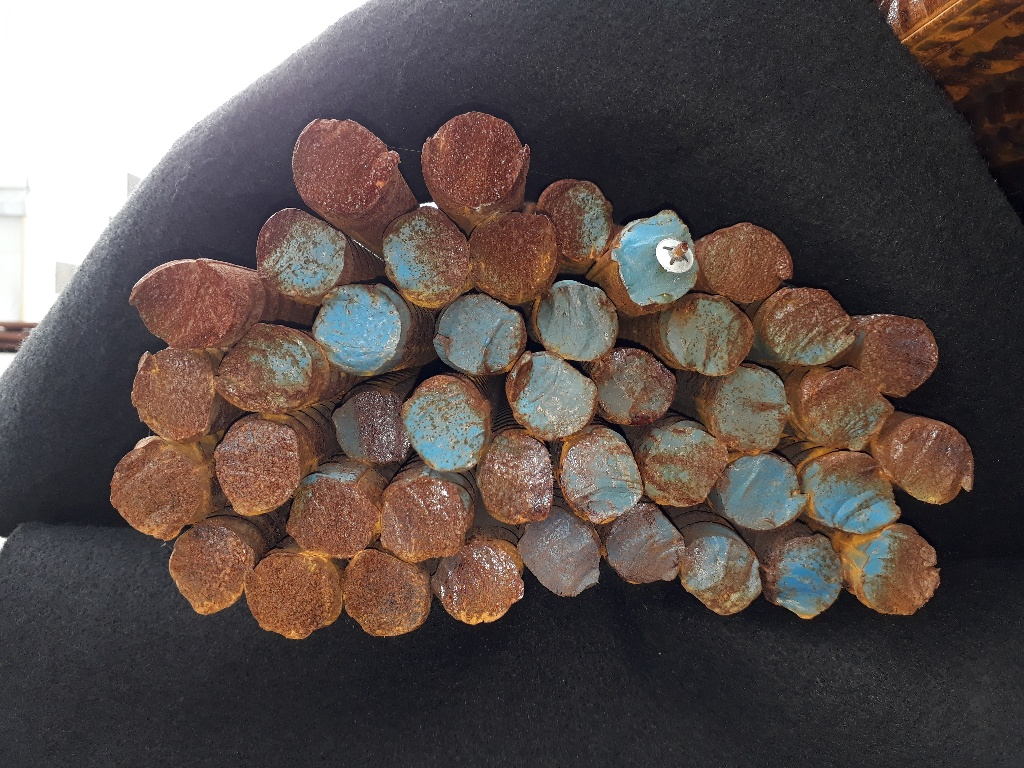dipstick: (428, 113, 525, 205), (295, 120, 388, 213), (112, 441, 202, 534), (219, 325, 311, 413), (697, 366, 789, 454), (140, 263, 233, 348), (621, 208, 698, 306), (387, 212, 471, 301), (249, 555, 342, 635), (215, 423, 299, 511), (169, 526, 250, 613), (288, 479, 380, 555), (258, 209, 343, 291), (668, 291, 753, 373), (313, 288, 400, 368), (564, 431, 640, 520), (437, 543, 521, 623), (471, 214, 552, 296), (411, 376, 484, 466), (815, 452, 894, 535), (509, 357, 593, 435), (344, 556, 429, 633), (135, 349, 209, 437), (866, 528, 938, 617), (645, 426, 725, 506), (809, 371, 890, 448), (862, 316, 938, 397), (437, 298, 521, 371), (900, 422, 974, 504), (483, 433, 552, 520), (522, 520, 600, 596), (685, 536, 762, 612), (706, 223, 784, 298), (608, 505, 682, 583), (537, 285, 616, 358), (596, 350, 675, 423), (726, 456, 803, 530), (383, 487, 465, 554), (333, 391, 407, 465), (773, 290, 850, 360), (541, 181, 610, 257), (777, 535, 840, 618)
